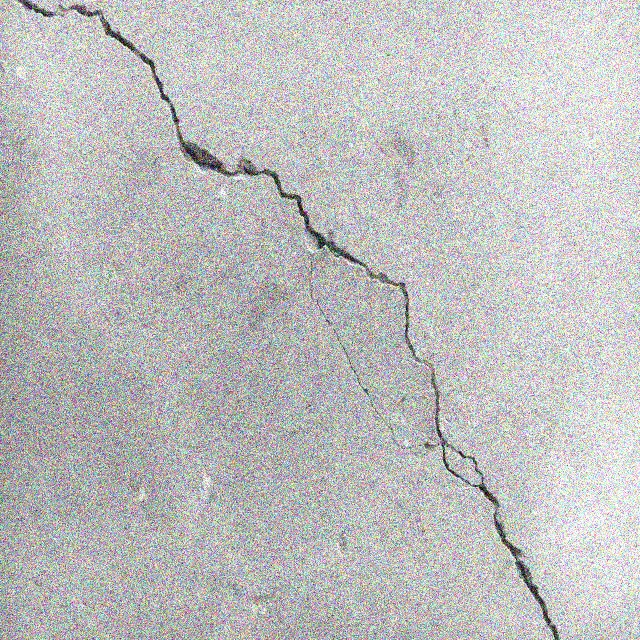SurfaceCrack: (0, 1, 639, 640)
